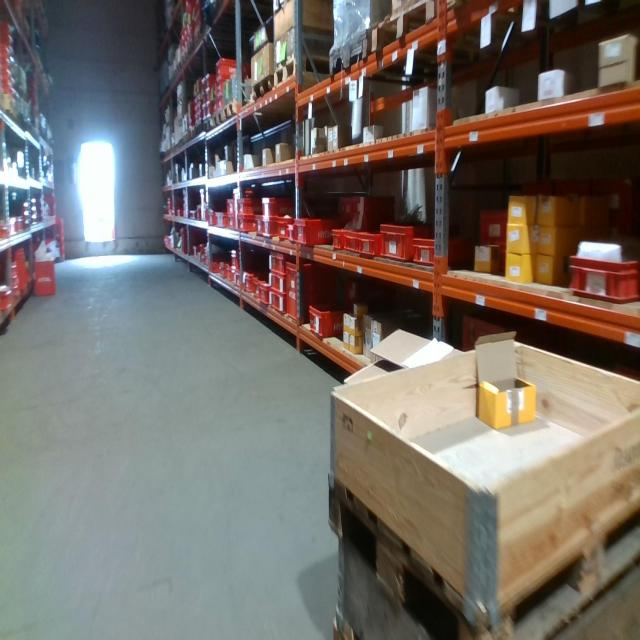pallet: (331, 437, 640, 637), (368, 1, 438, 58), (327, 25, 370, 80), (274, 53, 333, 87), (249, 74, 274, 113), (222, 96, 246, 126), (194, 28, 204, 53), (194, 120, 203, 146), (202, 116, 211, 140), (213, 107, 222, 129), (186, 39, 194, 63)
small_load_carrier: (569, 250, 640, 302), (286, 264, 336, 310), (380, 218, 434, 260), (413, 234, 475, 268), (294, 220, 336, 251), (309, 307, 343, 339), (479, 207, 508, 244), (355, 198, 401, 218), (35, 258, 59, 295), (261, 198, 294, 217), (272, 283, 289, 316), (236, 197, 262, 215), (345, 232, 365, 253), (359, 232, 378, 254), (281, 216, 296, 243), (269, 271, 288, 291), (261, 216, 279, 237), (330, 229, 347, 251), (216, 57, 234, 77), (354, 217, 379, 231), (269, 258, 286, 278), (237, 216, 257, 232), (341, 198, 355, 217), (259, 283, 269, 305), (0, 291, 12, 309), (229, 250, 239, 271), (245, 274, 253, 293), (289, 224, 296, 242), (227, 215, 236, 229), (344, 220, 352, 227)
